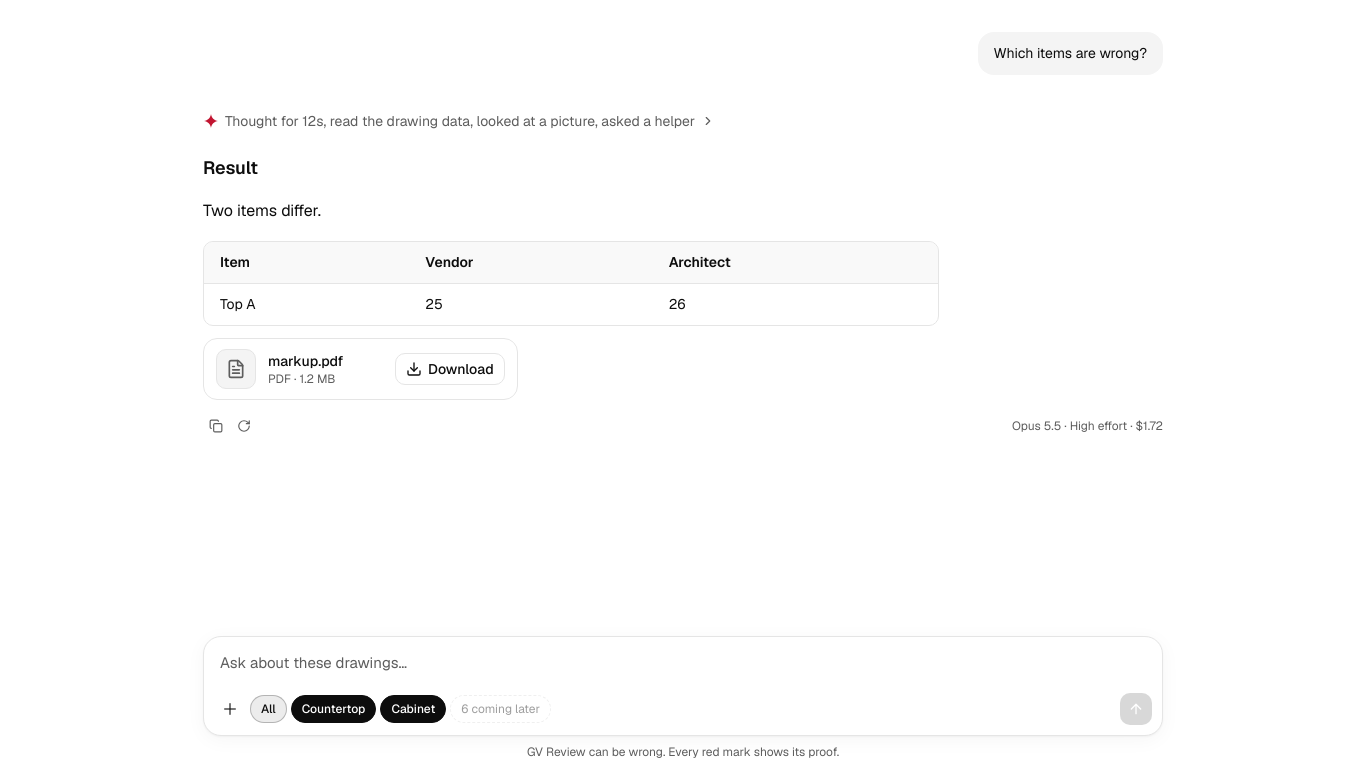
Test: a saved chat, after a reload › Retry under an answer asks its question again as a new message
Click the button named "Retry" at (244, 426), box [231,412,257,440]
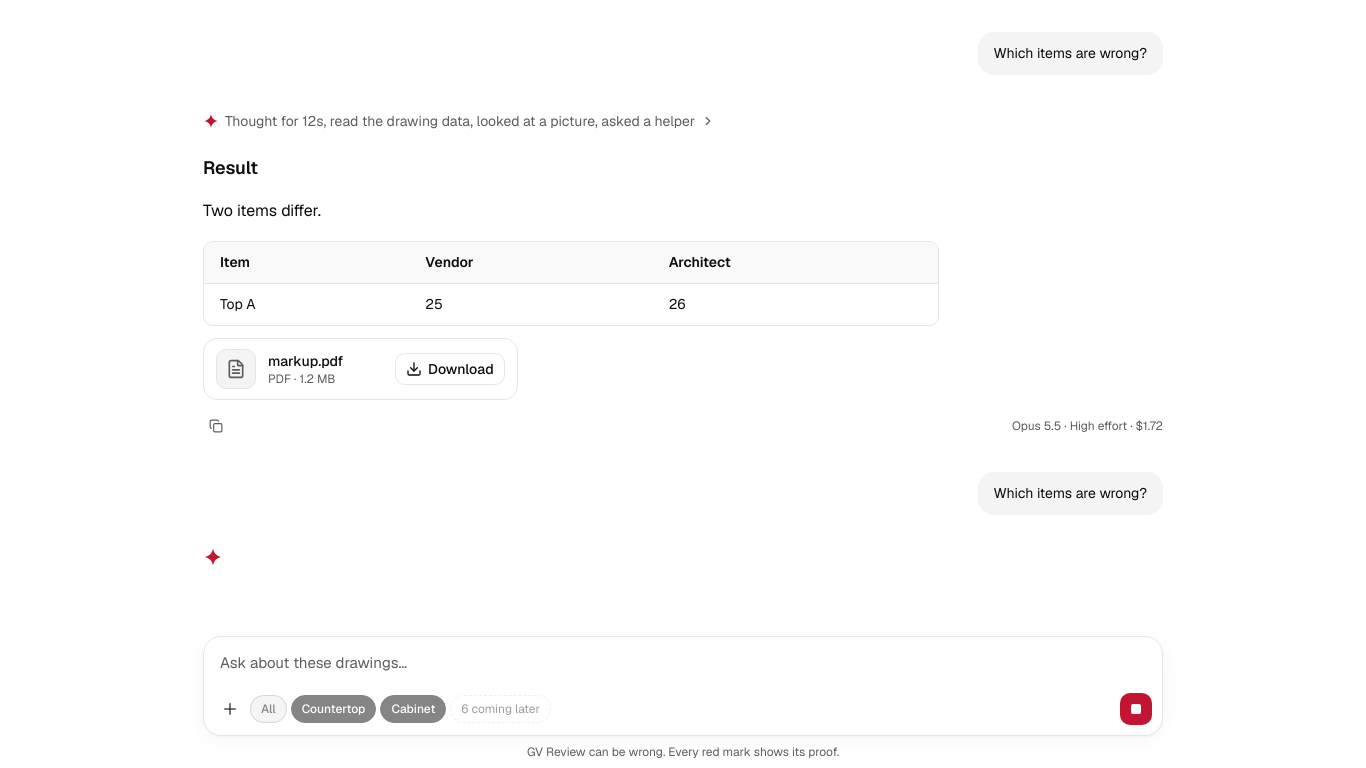
Expected: the 1st text "Which items are wrong?" is shown, [978,32,1163,75]
Now the text "Which items are wrong?" is shown 2 times, box [978,32,1163,75]; [978,472,1163,515]
Now the button "Retry" is gone
